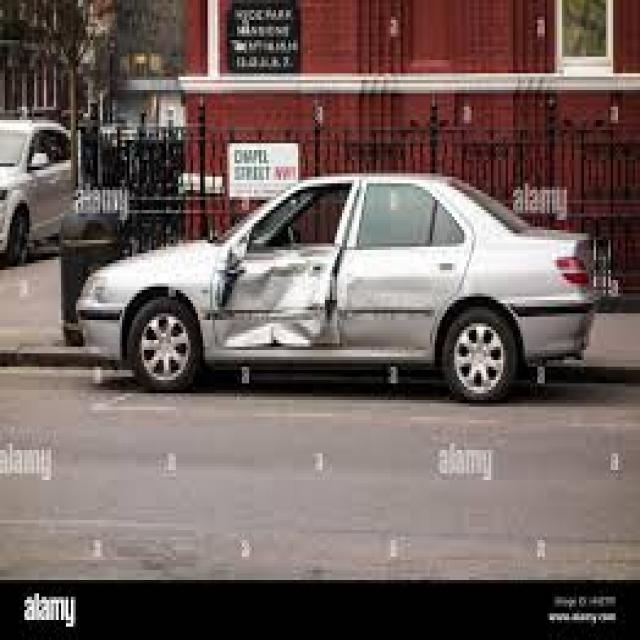damaged-door: (214, 178, 355, 362)
